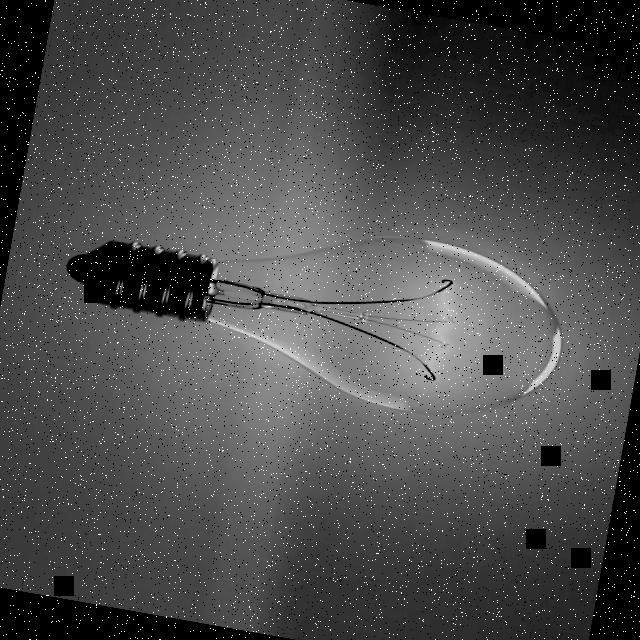light_bulb: (32, 165, 596, 454)
